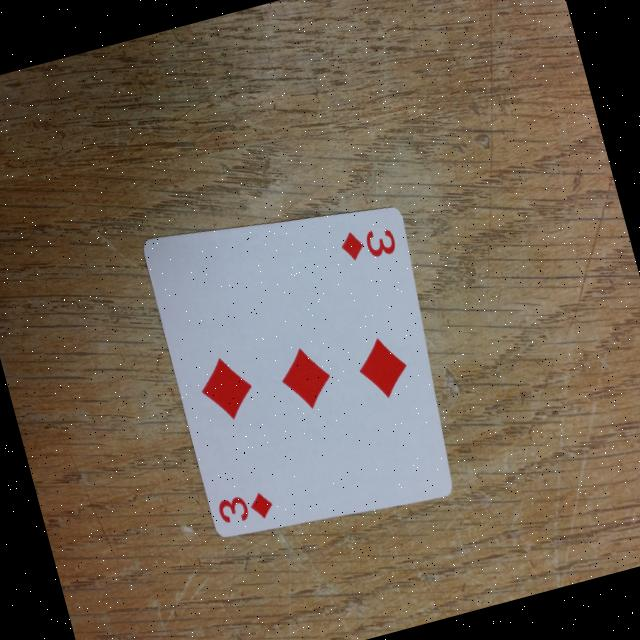3d: (332, 211, 408, 280), (208, 477, 280, 538)
